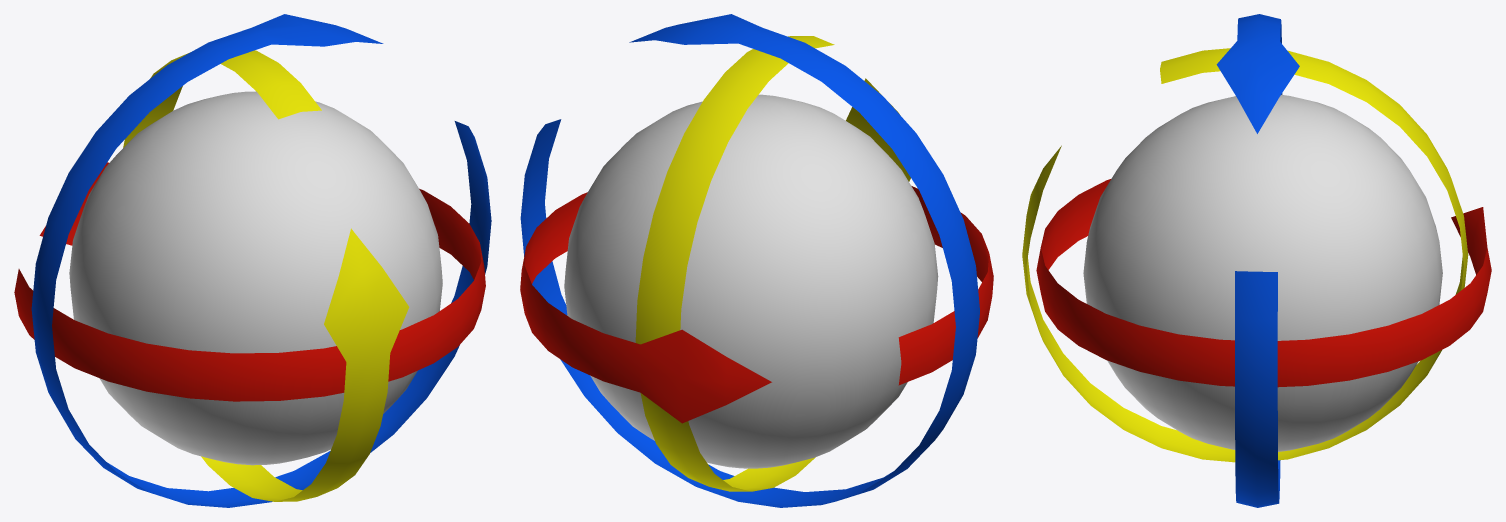
The model's file is SphereAxe 1.fbx.
The picture shows the model from 3 angles, left to right: view 1: azimuth 30°, elevation 25°; view 2: azimuth 150°, elevation 25°; view 3: azimuth 270°, elevation 25°; orthographic projection. The views are drawn at different scales.
Parts seen in each view (by area): view 1: Sphere; view 2: Sphere; view 3: Sphere.
Part boxes in pixels (x1=…): Sphere: x1=14, y1=14, x2=491, y2=507; Sphere: x1=520, y1=14, x2=993, y2=507; Sphere: x1=1022, y1=14, x2=1491, y2=507.
Bounding box in the file's own units: 275 × 275 × 261.
